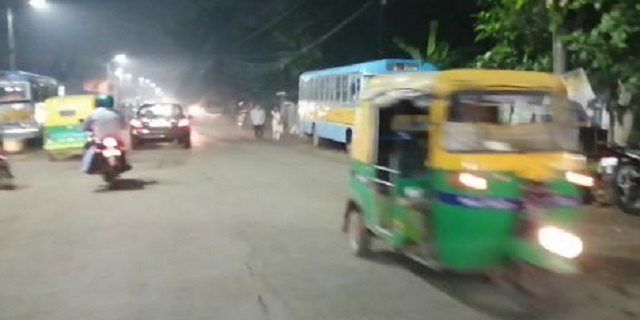Autorickshaw: (358, 71, 594, 304)
Car: (136, 101, 198, 151)
Motorbike: (80, 90, 132, 189)
